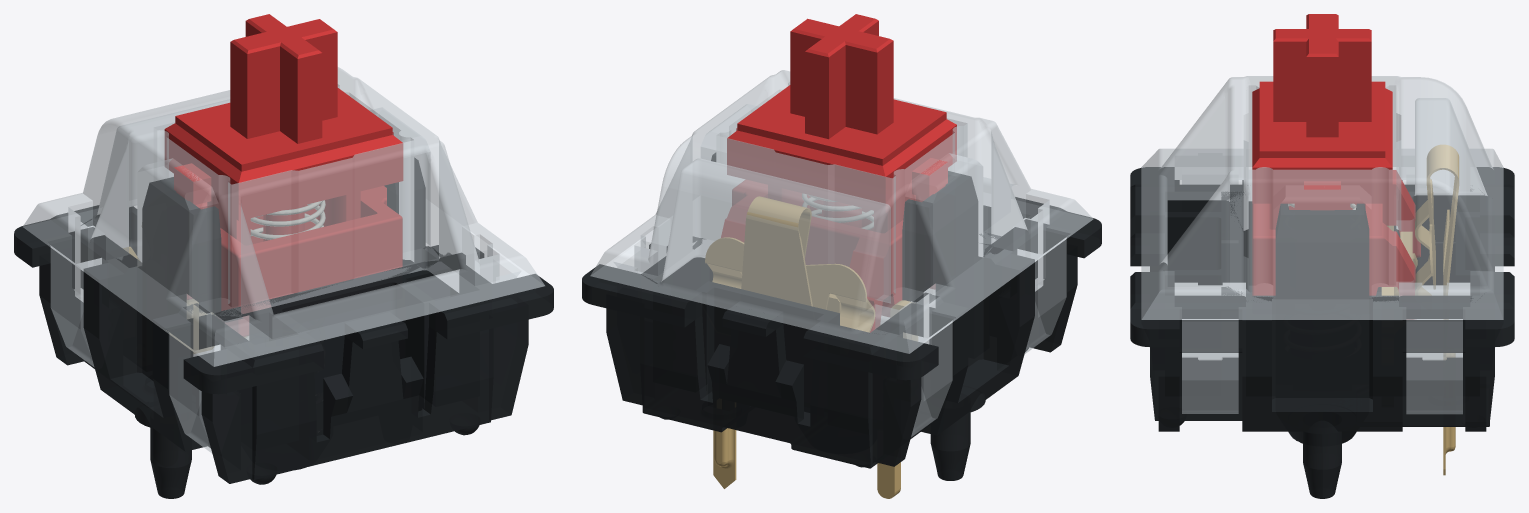
Rendered from mx-switch.glb.
3 renders of one model, left to right at view 1: azimuth 30°, elevation 25°; view 2: azimuth 150°, elevation 25°; view 3: azimuth 270°, elevation 25°, orthographic. The views are drawn at different scales.
Parts seen in each view (by area): view 1: housing_lower, housing_upper, stem, clicker, spring; view 2: housing_lower, housing_upper, stem, pin_contact_2, clicker, pin_contact_1, spring; view 3: housing_lower, housing_upper, stem, clicker, pin_contact_2, pin_contact_1.
Part boxes in pixels (x1,y1,x2,y2): housing_lower: (14,157,553,498); housing_upper: (22,67,544,452); stem: (164,14,403,244); clicker: (187,186,402,336); spring: (246,200,325,339); housing_lower: (582,152,1101,480); housing_upper: (590,70,1093,437); stem: (727,14,956,232); pin_contact_2: (705,196,875,488); clicker: (721,180,934,332); pin_contact_1: (826,293,917,498); spring: (802,194,873,229); housing_lower: (1130,167,1514,498); housing_upper: (1141,76,1503,414); stem: (1252,14,1392,210); clicker: (1252,170,1420,319); pin_contact_2: (1415,144,1459,475); pin_contact_1: (1381,225,1417,295).
Size of the model in its own units: 0.0156 by 0.0186 by 0.0156.
